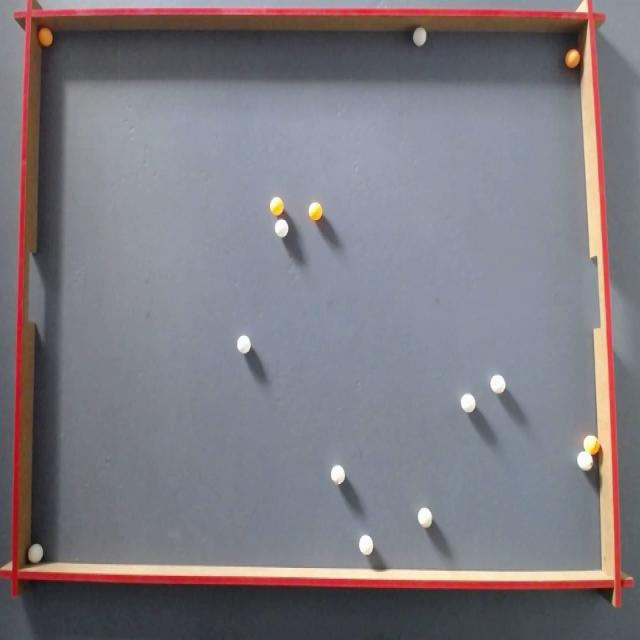orange_ball: (584, 435, 599, 455), (565, 49, 580, 68), (38, 27, 52, 46), (309, 202, 322, 220), (270, 197, 283, 215)
white_ball: (28, 543, 44, 564), (490, 374, 506, 394), (577, 451, 593, 470), (359, 535, 373, 555), (418, 508, 432, 527), (237, 335, 251, 354), (461, 393, 475, 412), (274, 219, 288, 237), (413, 27, 426, 46), (331, 465, 344, 484)
